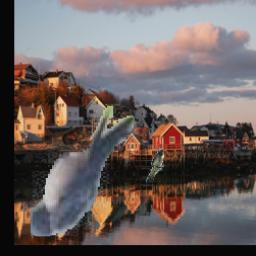Swallow: (31, 104, 135, 236), (146, 147, 165, 183)
